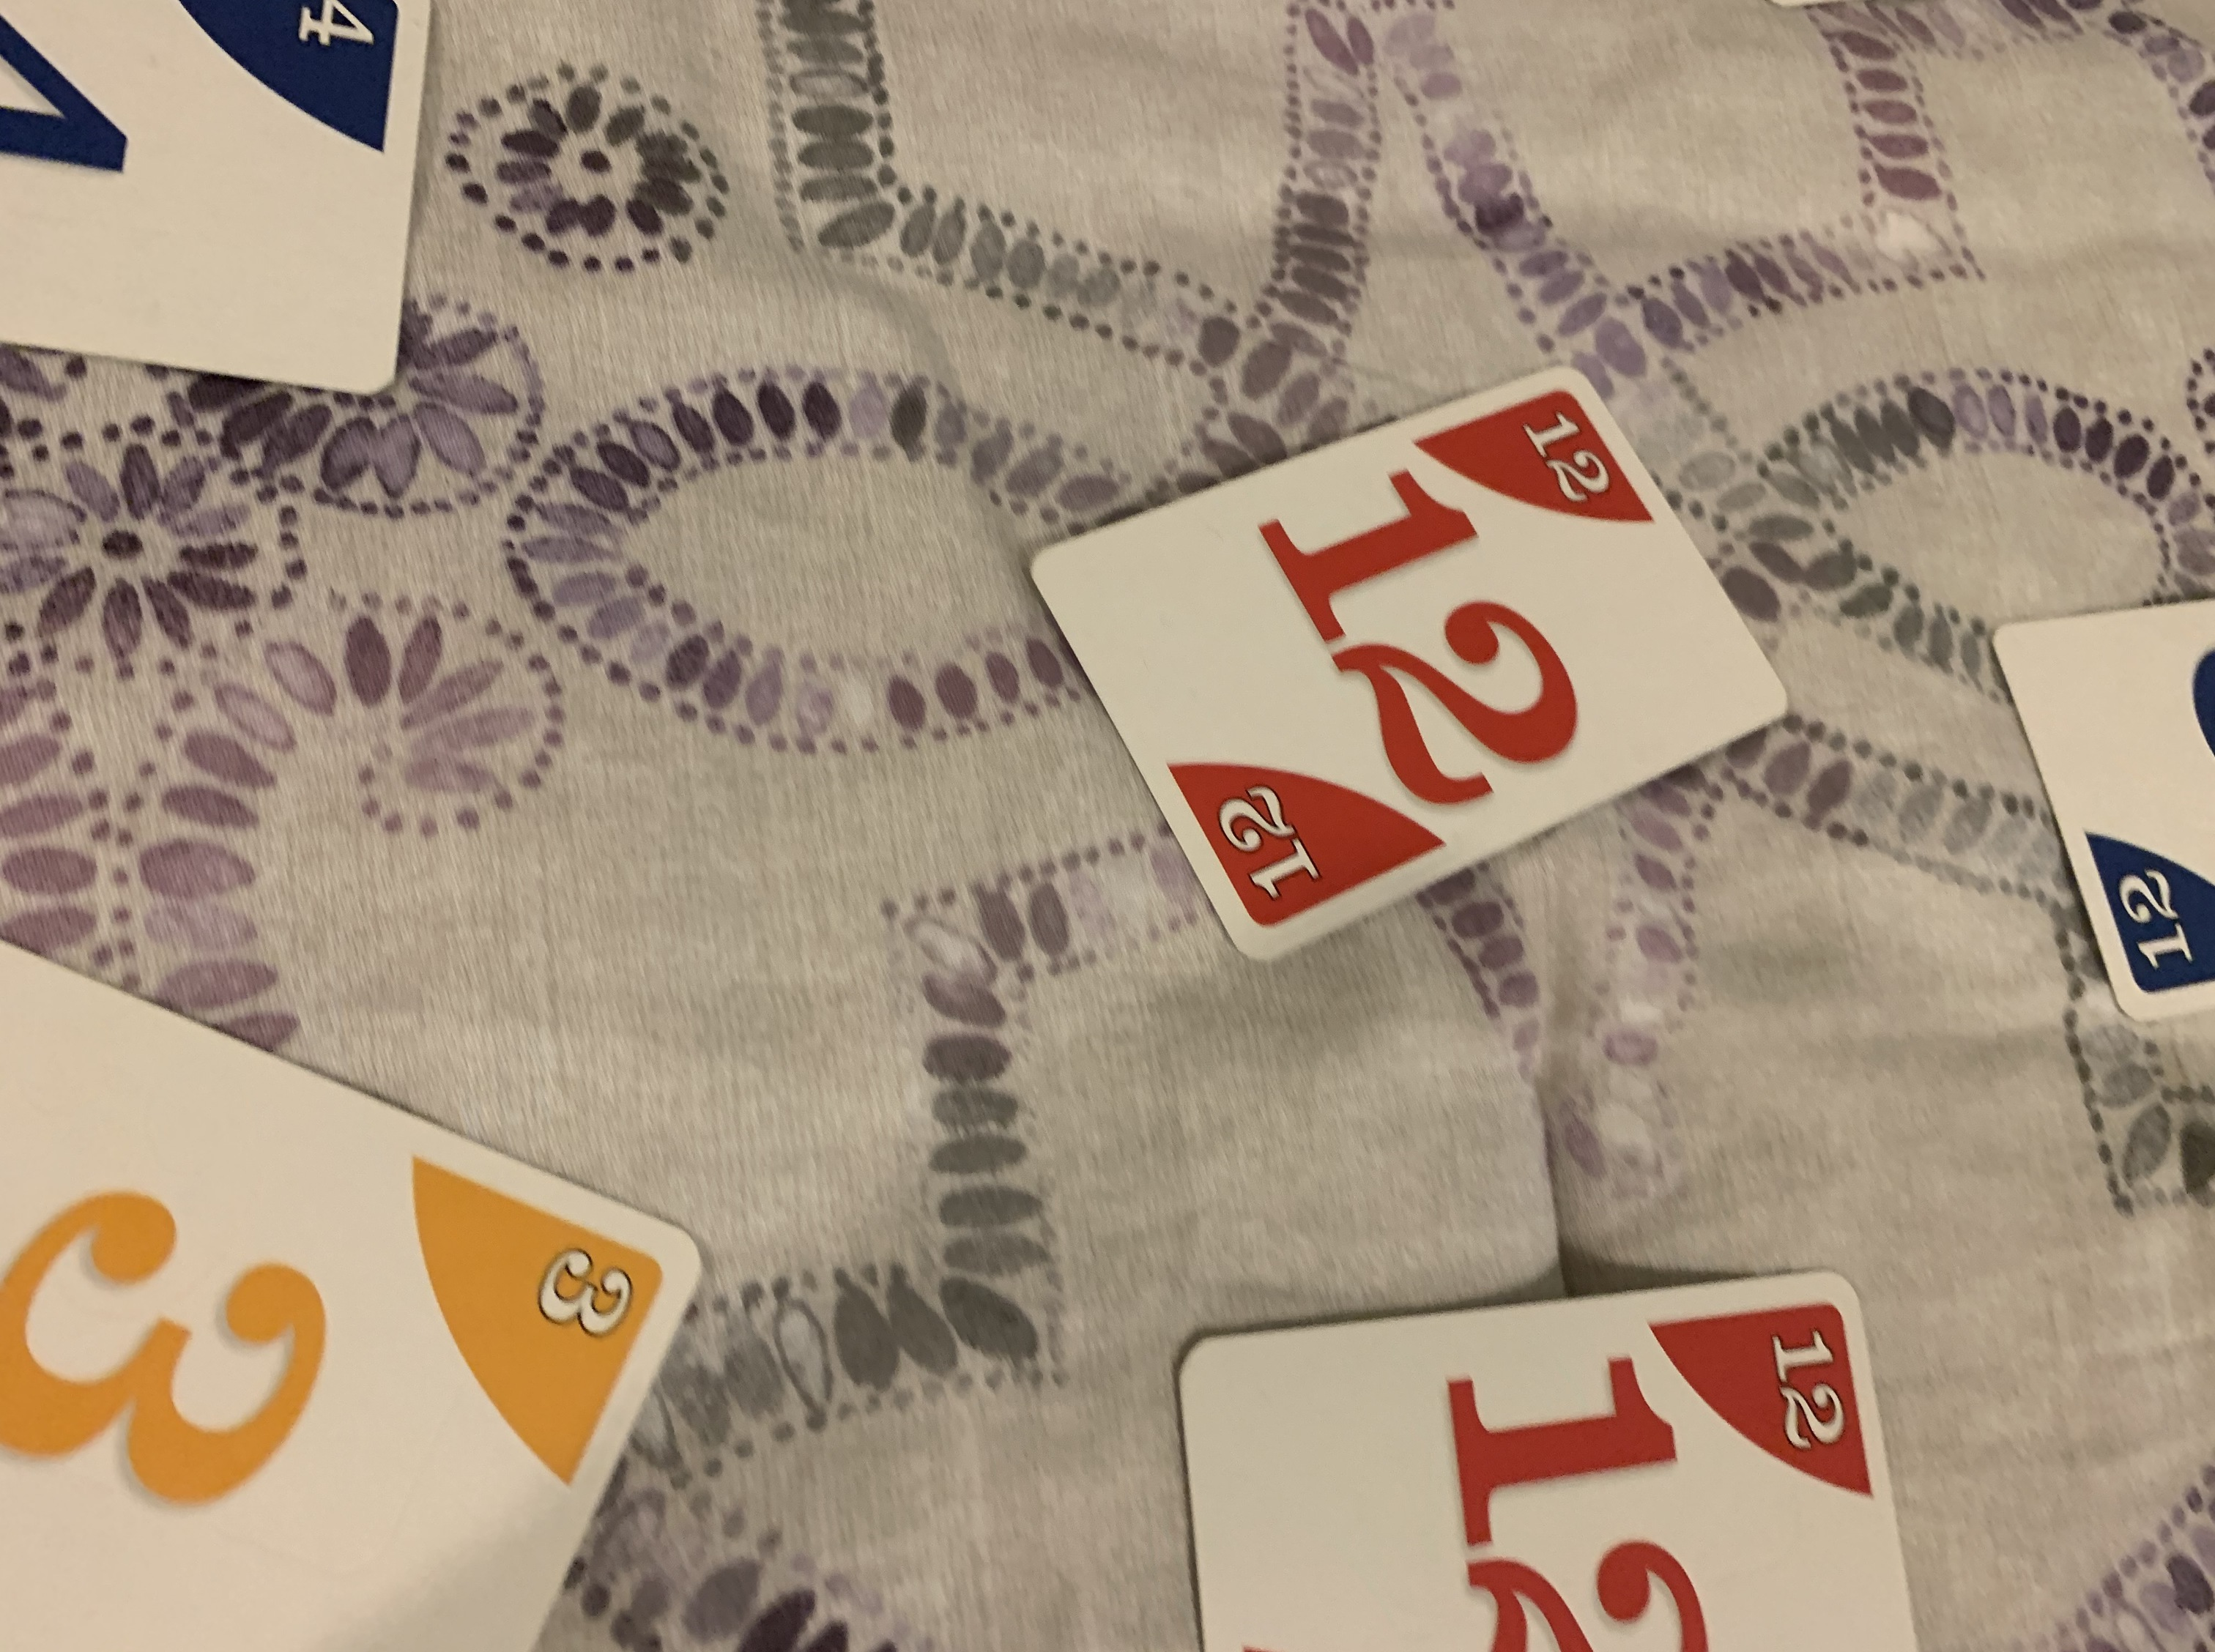twelve: (1003, 356, 1797, 977)
